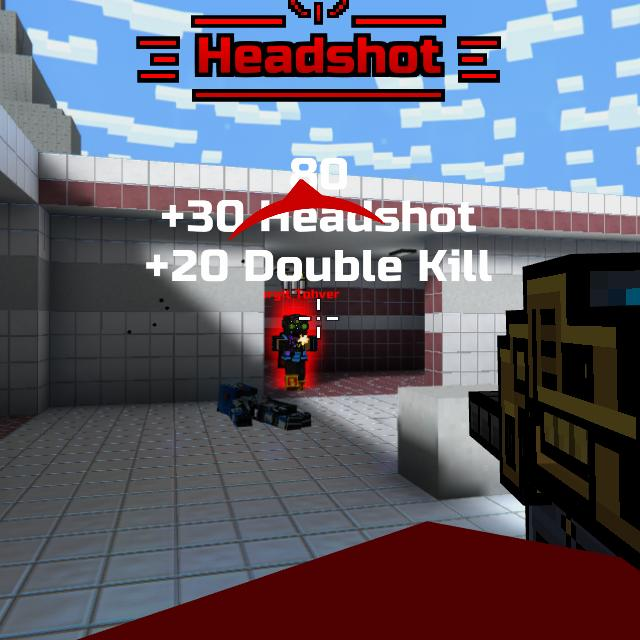Enemy: (272, 313, 318, 391)
